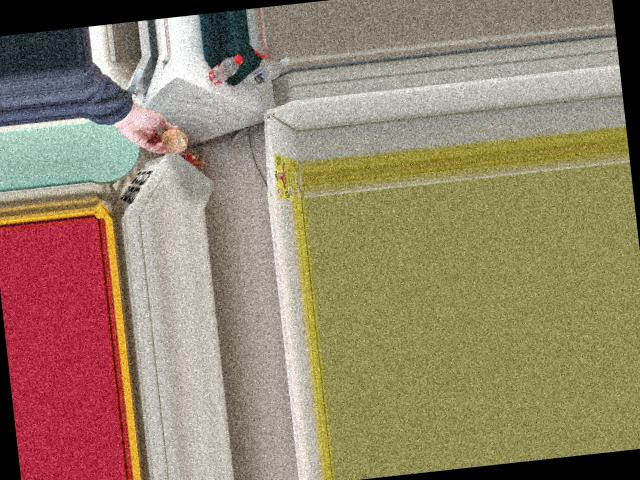sweet_potato: (157, 127, 187, 152)
